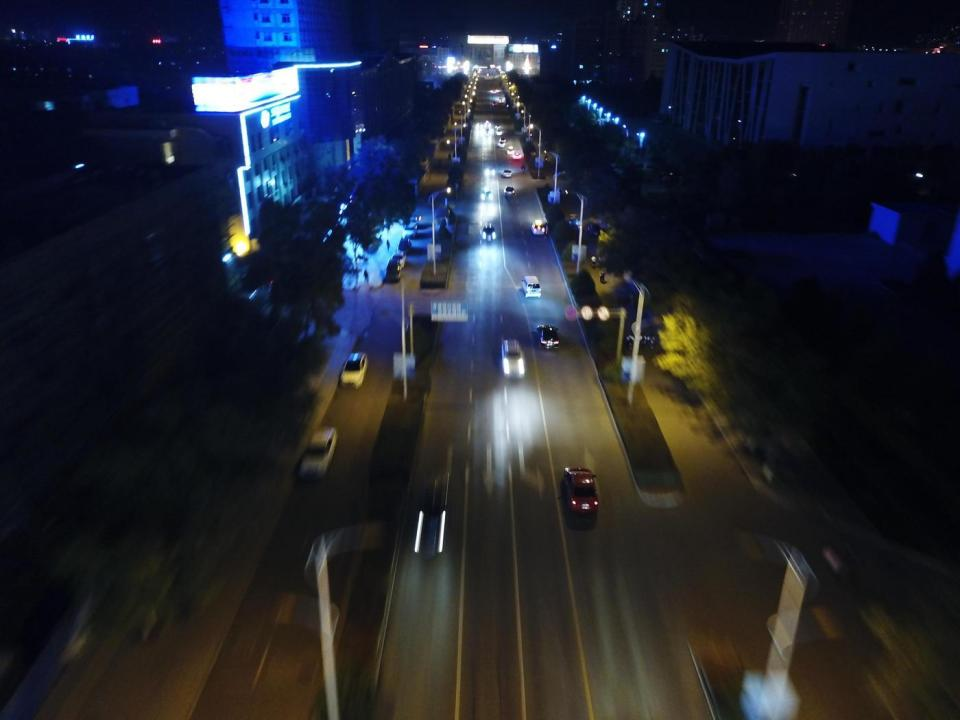car: (410, 471, 448, 557), (298, 427, 335, 477), (560, 467, 599, 514), (338, 350, 366, 387), (501, 339, 524, 375), (537, 324, 559, 349), (384, 259, 400, 281), (633, 162, 655, 178), (402, 221, 417, 238), (480, 224, 495, 240), (585, 222, 600, 236), (392, 250, 405, 266), (399, 236, 411, 252), (530, 220, 543, 233), (481, 188, 493, 199), (570, 216, 579, 228), (407, 212, 417, 222), (486, 128, 495, 137), (503, 168, 513, 176), (484, 166, 494, 173), (499, 137, 505, 148), (512, 152, 521, 159), (505, 188, 513, 195), (495, 123, 502, 129), (474, 127, 480, 134), (507, 145, 512, 153), (484, 121, 490, 127), (475, 123, 483, 127), (495, 129, 501, 134), (492, 100, 496, 106), (498, 97, 502, 102), (496, 87, 499, 93), (491, 87, 494, 93)
van: (522, 274, 542, 298)
